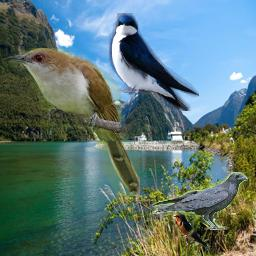Crow: (152, 172, 248, 230)
Cuckoo: (2, 48, 140, 196)
Swallow: (109, 13, 199, 111), (172, 212, 211, 250)
